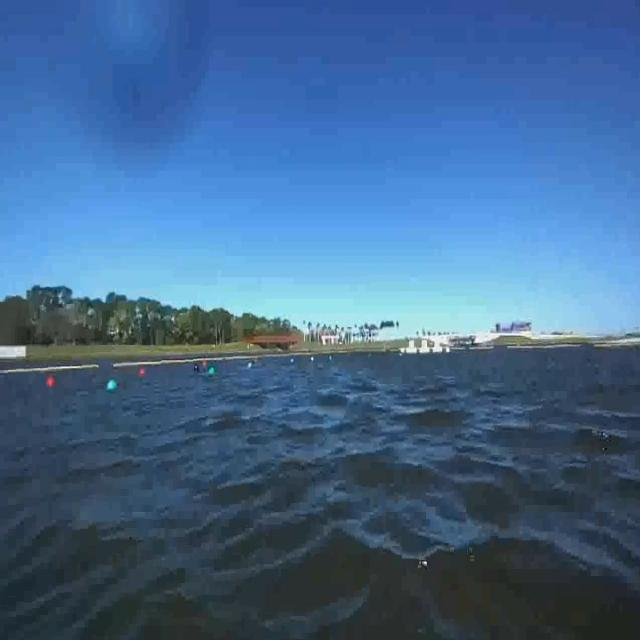green-buoy: (105, 381, 119, 395)
red-buoy: (46, 378, 55, 388)
